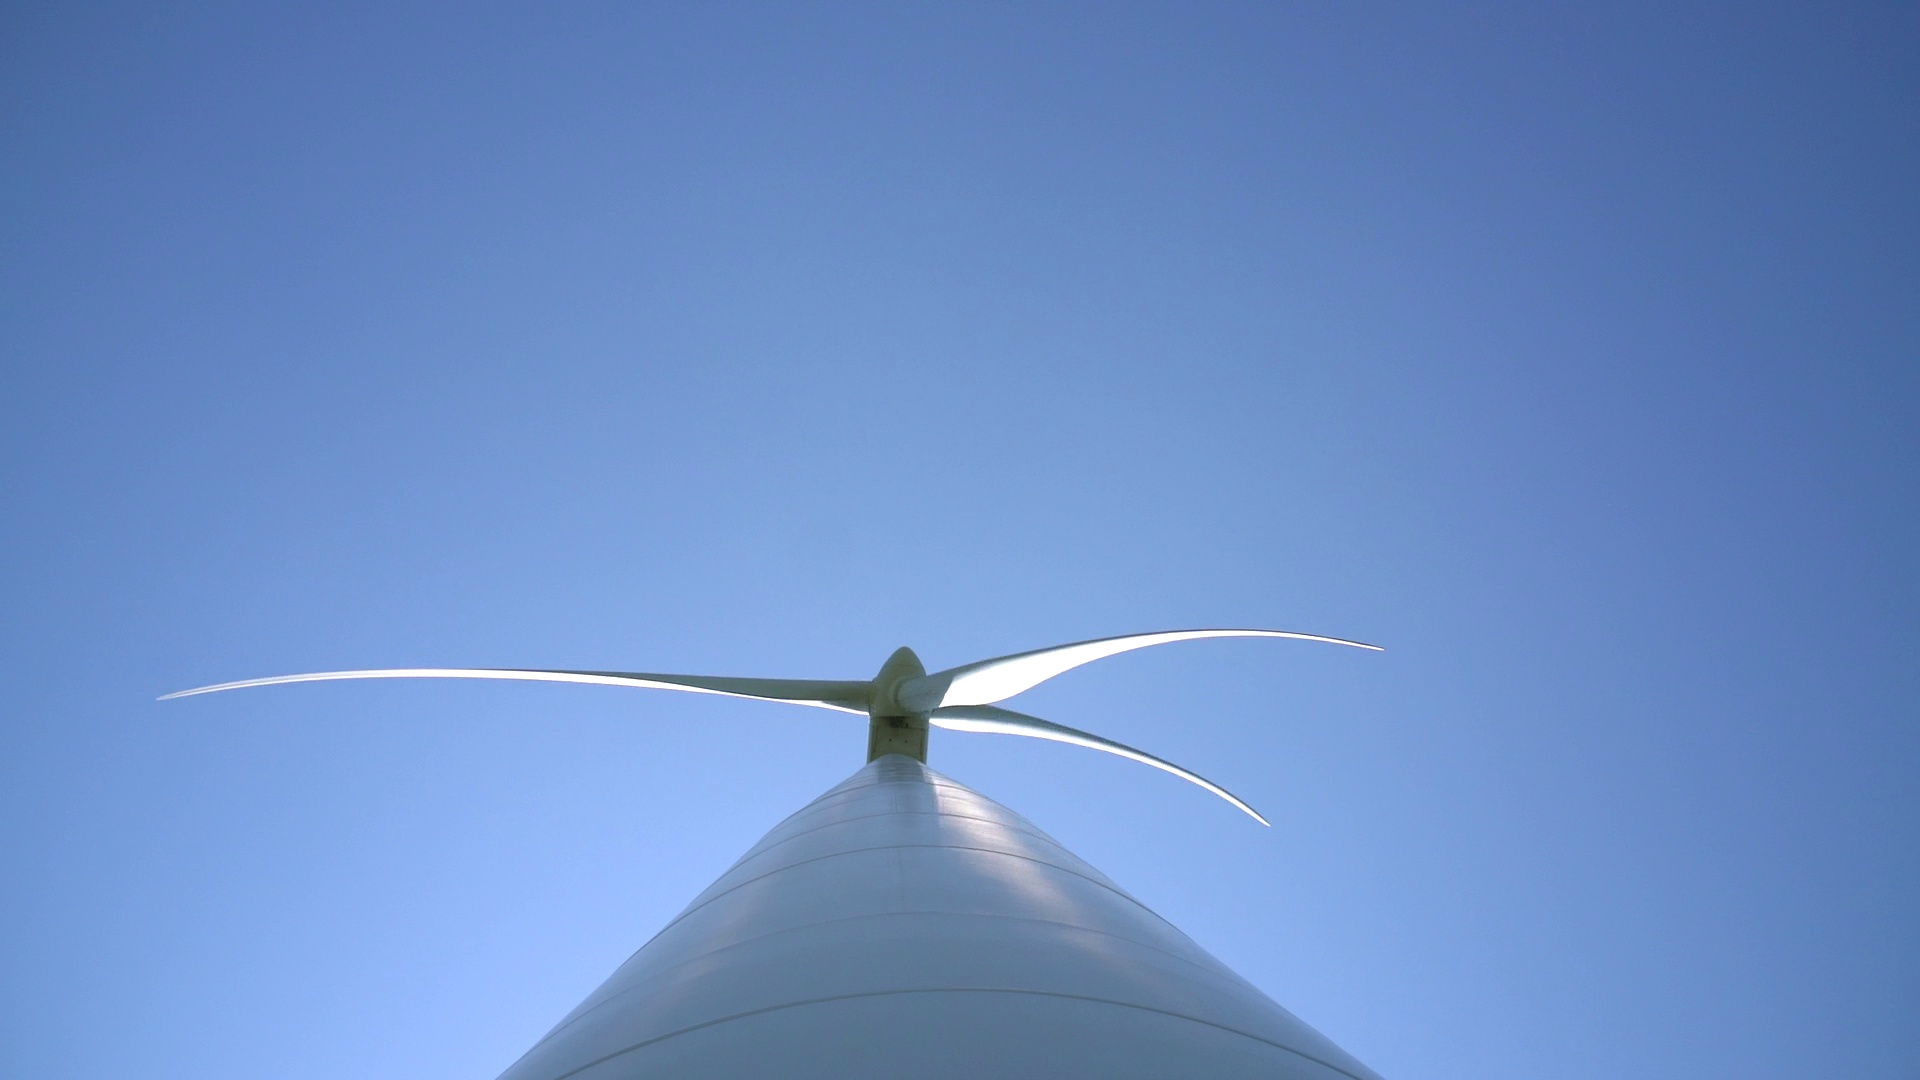turbine: (160, 615, 873, 744), (930, 680, 1290, 860), (927, 611, 1414, 713)
